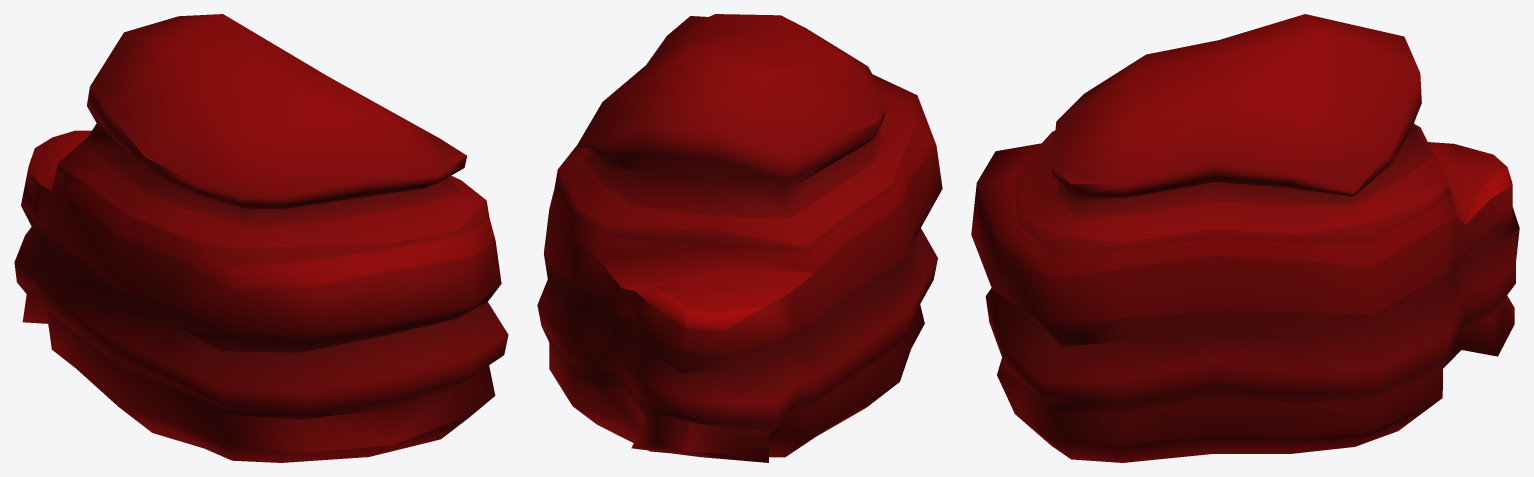
File: geology-rocks-layeredrock_v5.fbx
3 renders of one model, left to right at view 1: azimuth 30°, elevation 25°; view 2: azimuth 150°, elevation 25°; view 3: azimuth 270°, elevation 25°, orthographic. The views are drawn at different scales.
Parts seen in each view (by area): view 1: LayeredRock_v5; view 2: LayeredRock_v5; view 3: LayeredRock_v5.
Boxes of the visible parts, x1,y1,x2,y2 form: LayeredRock_v5: [14, 14, 508, 462]; LayeredRock_v5: [537, 14, 942, 462]; LayeredRock_v5: [971, 14, 1519, 462].
Size of the model in its own units: 7.86 by 8.52 by 11.07.
